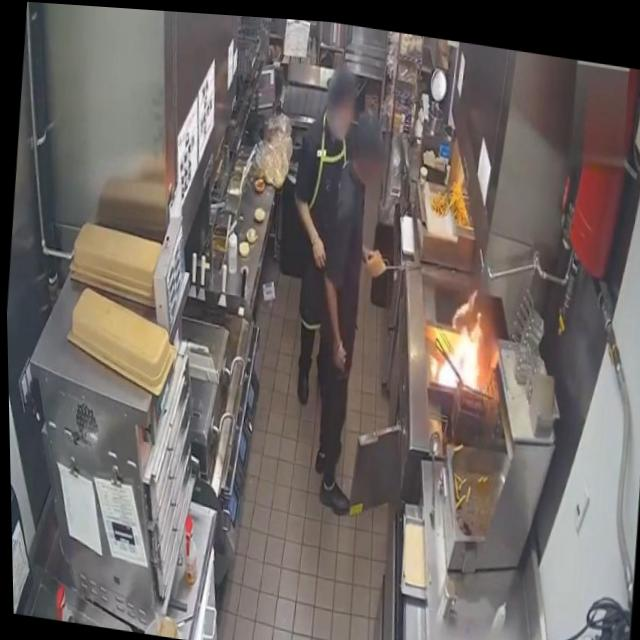fire: (427, 272, 492, 391)
